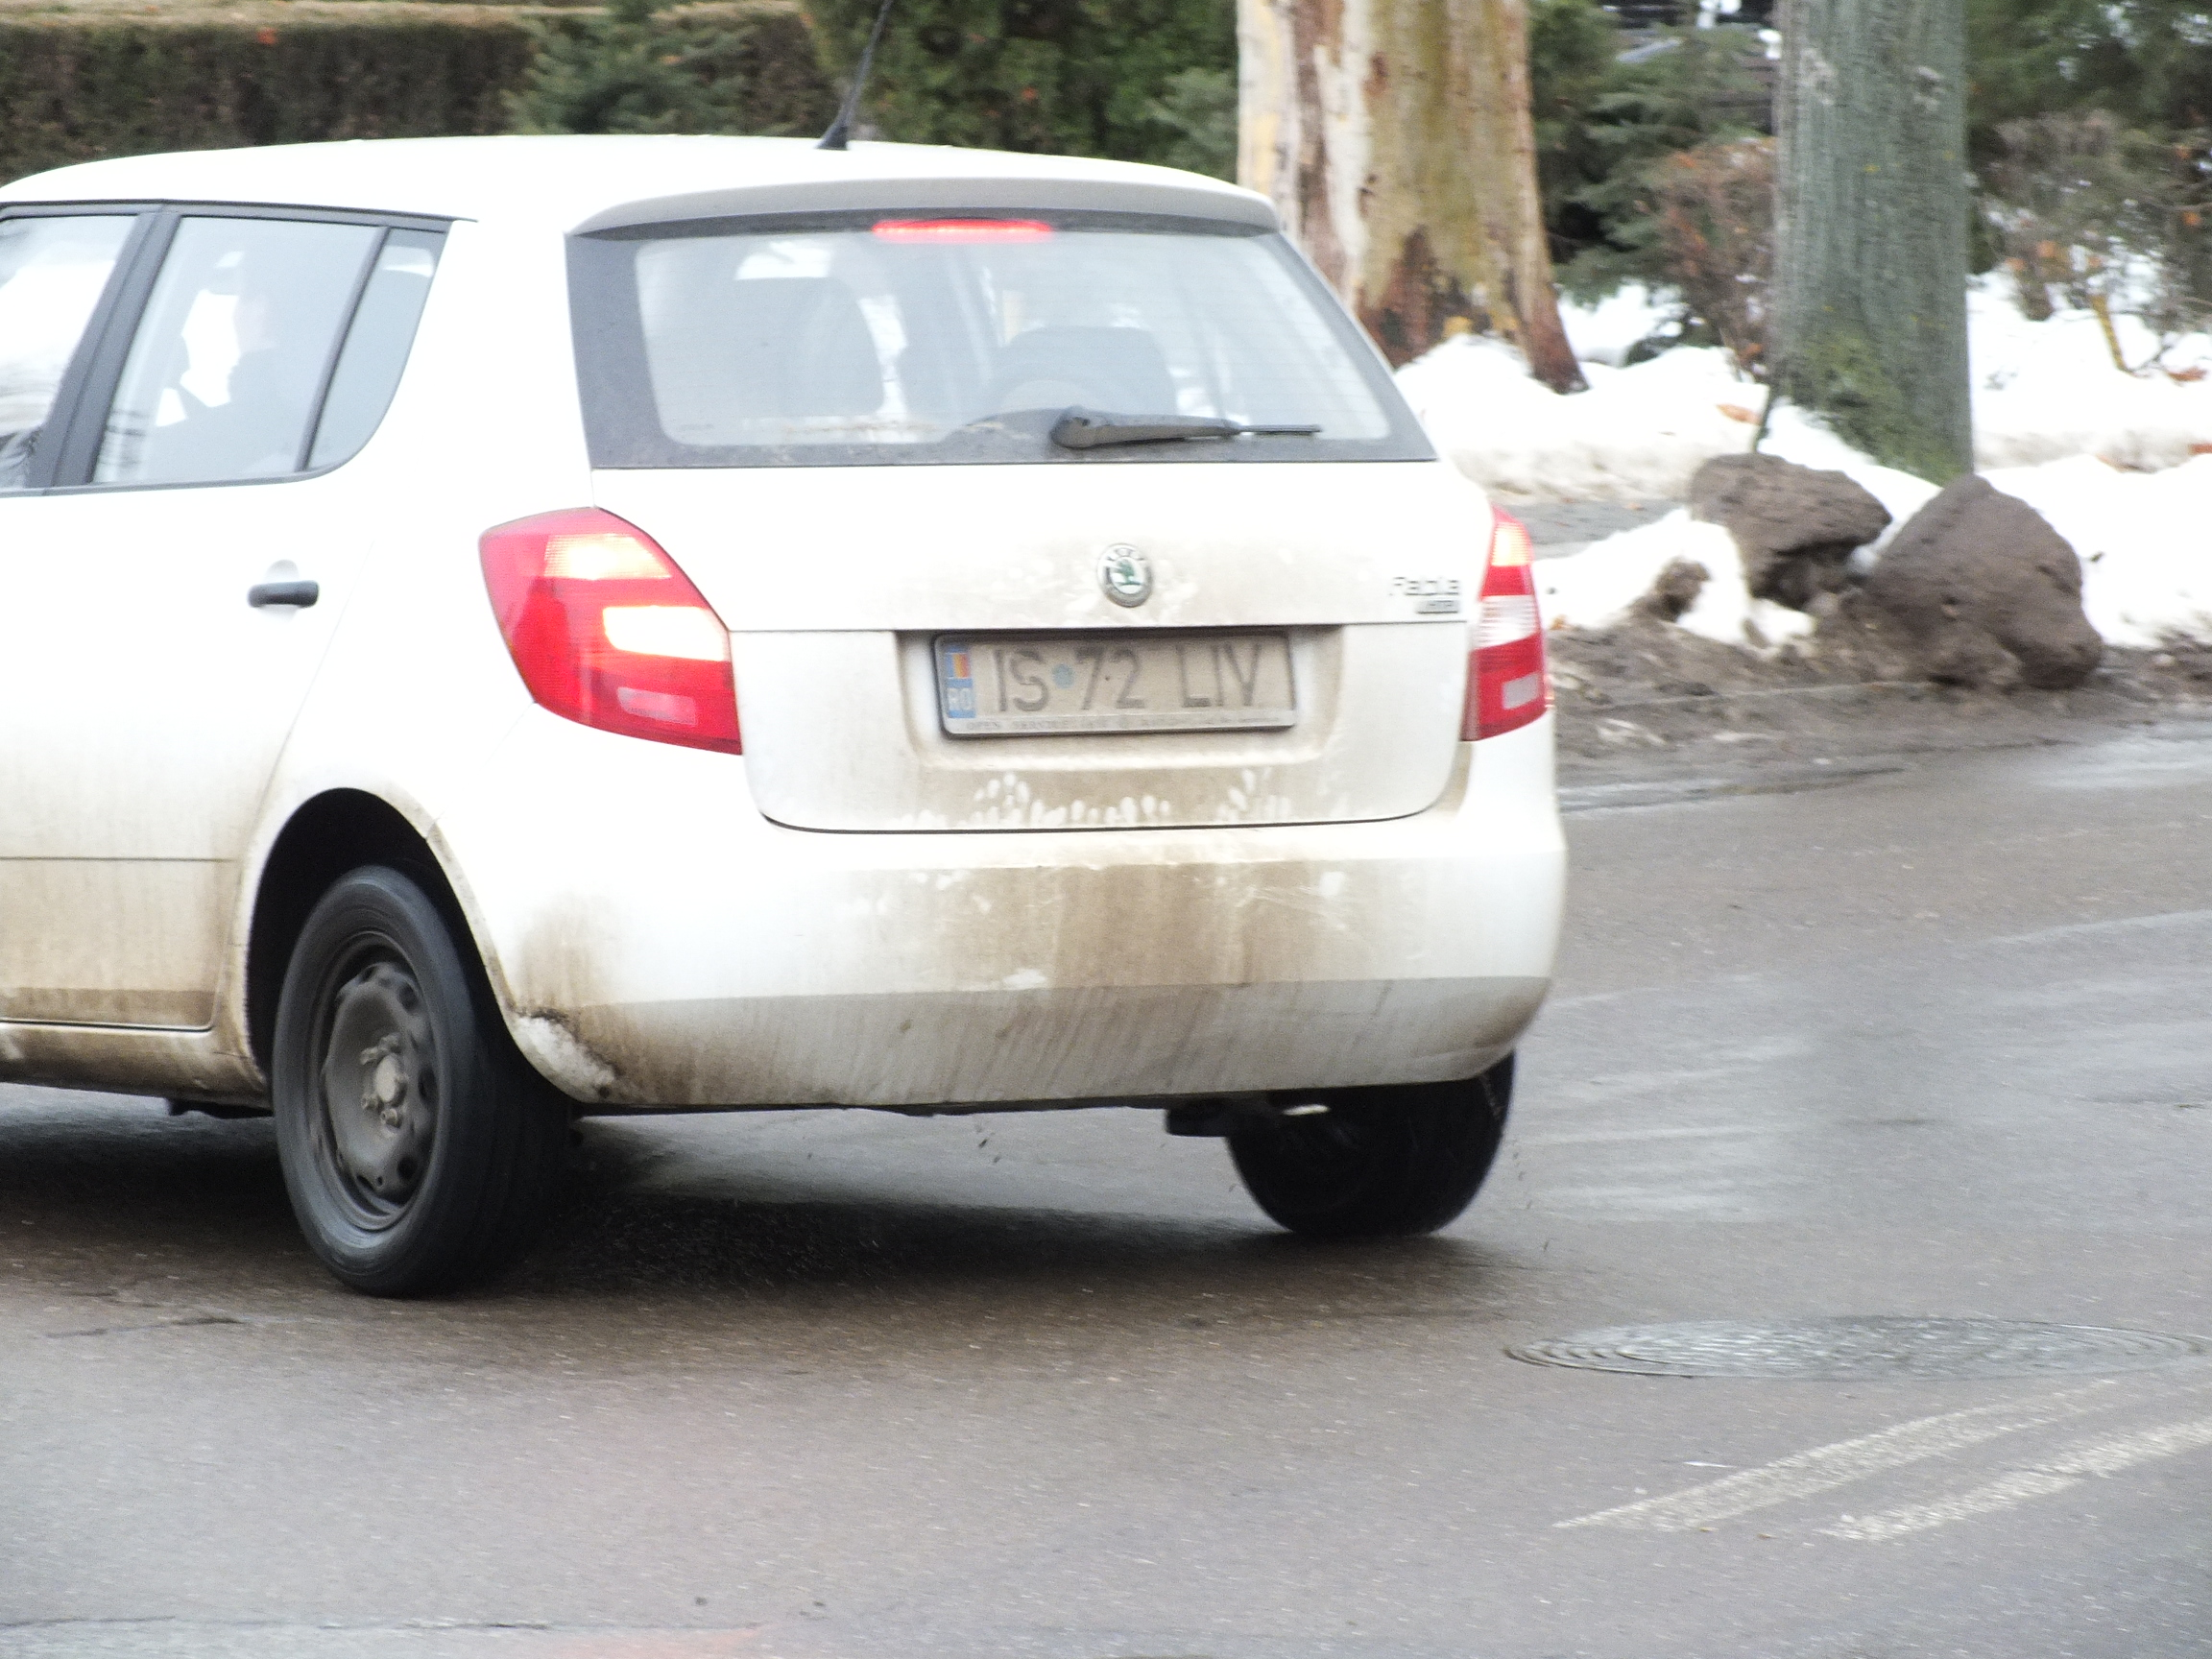IS72LIV: (937, 638, 1271, 725)
